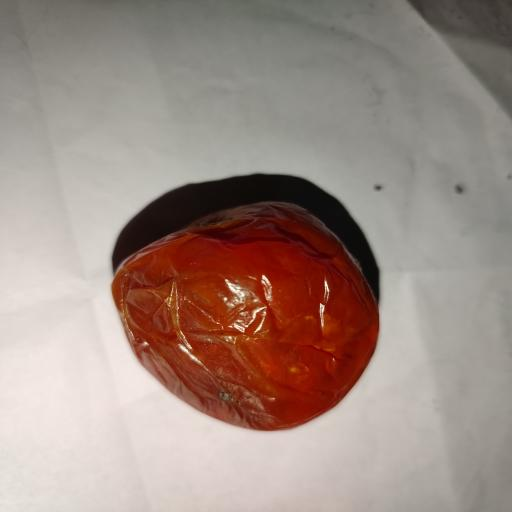spoiled: (112, 202, 378, 430)
